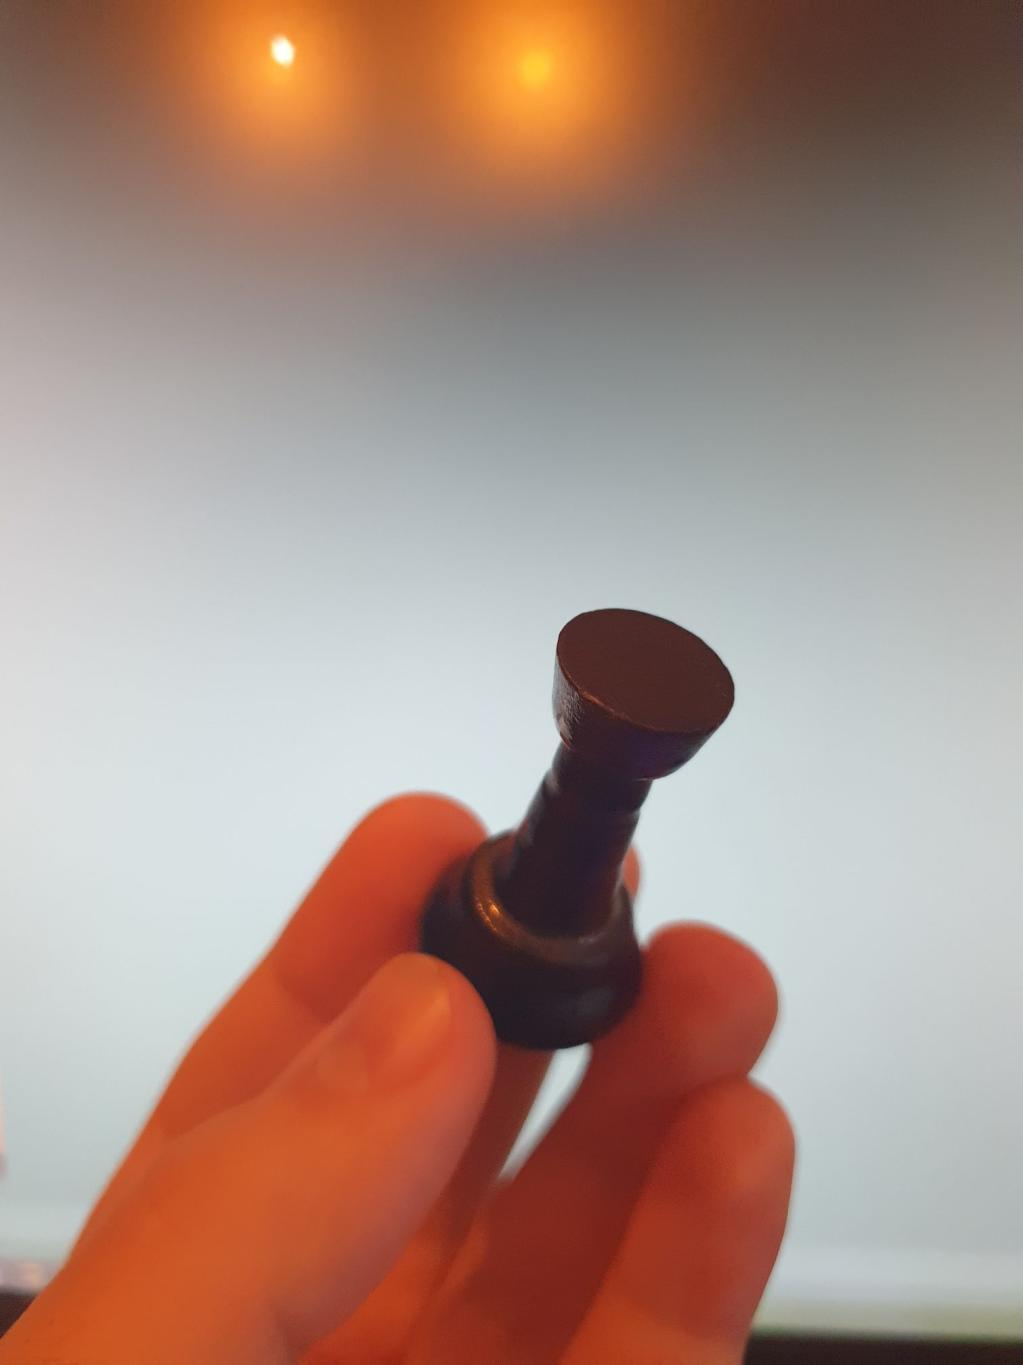brook: (421, 608, 736, 1055)
